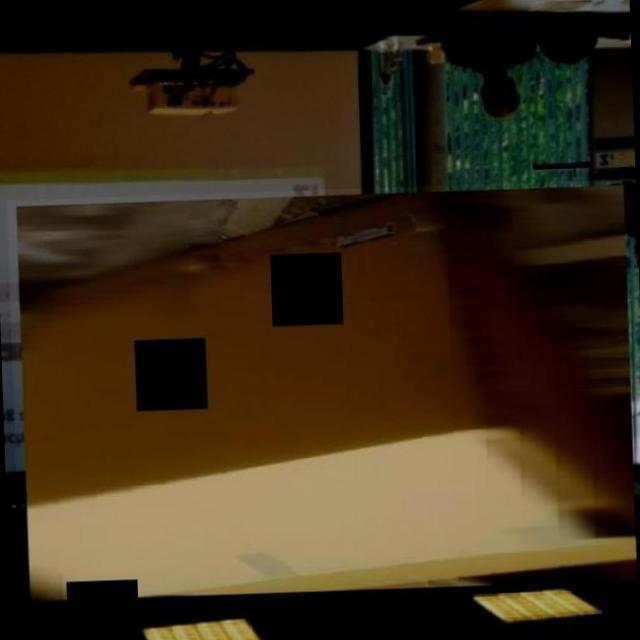box: (6, 178, 640, 606)
